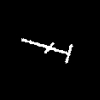double_crochet: (22, 39, 72, 62)
